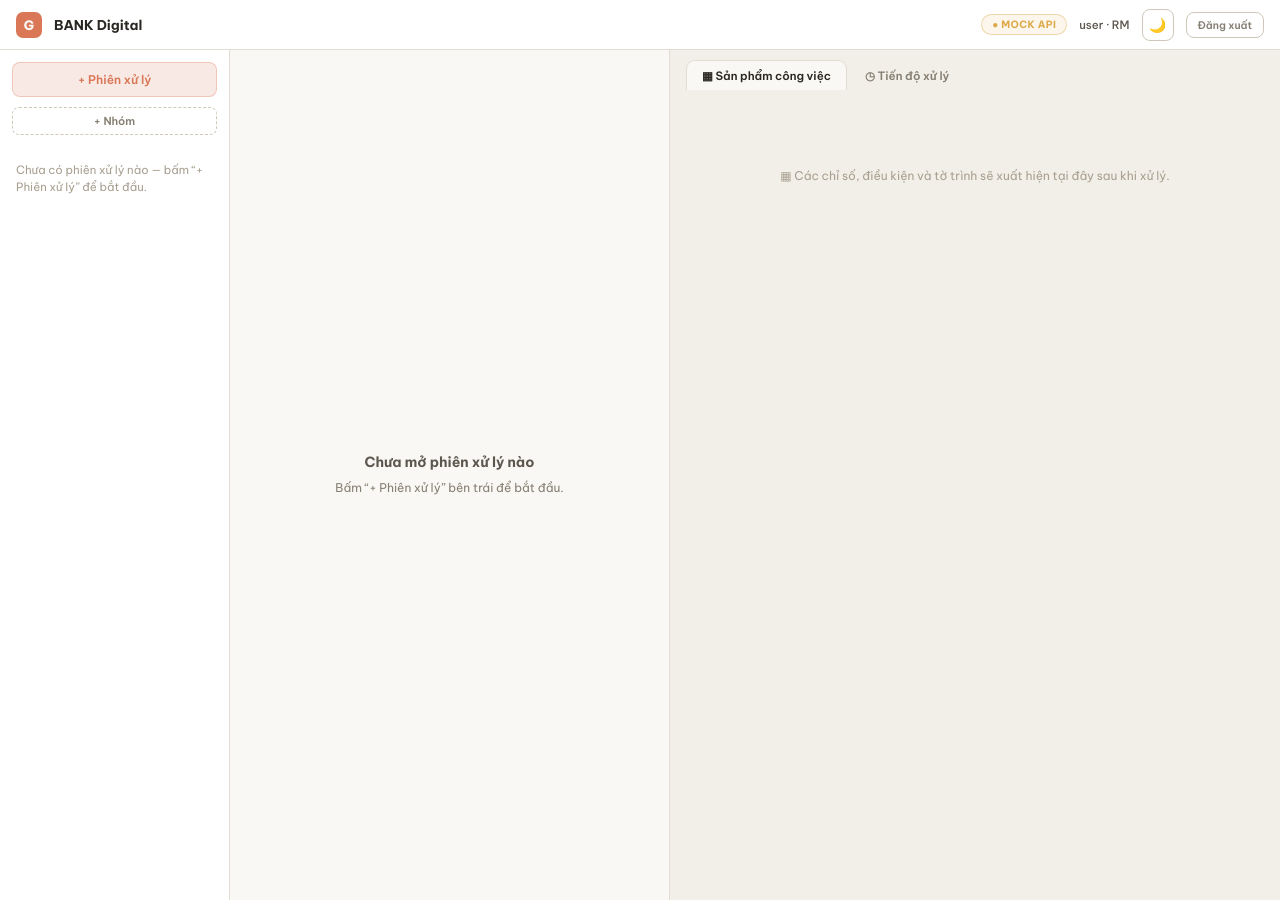
Workspace chat — vòng lõi S1 (mock API) › bước nghiệp vụ fail → cảnh báo an toàn + tiến độ lỗi, không lộ raw task output
Click the button "+ Phiên xử lý" at (114, 80), box [12,62,217,97]
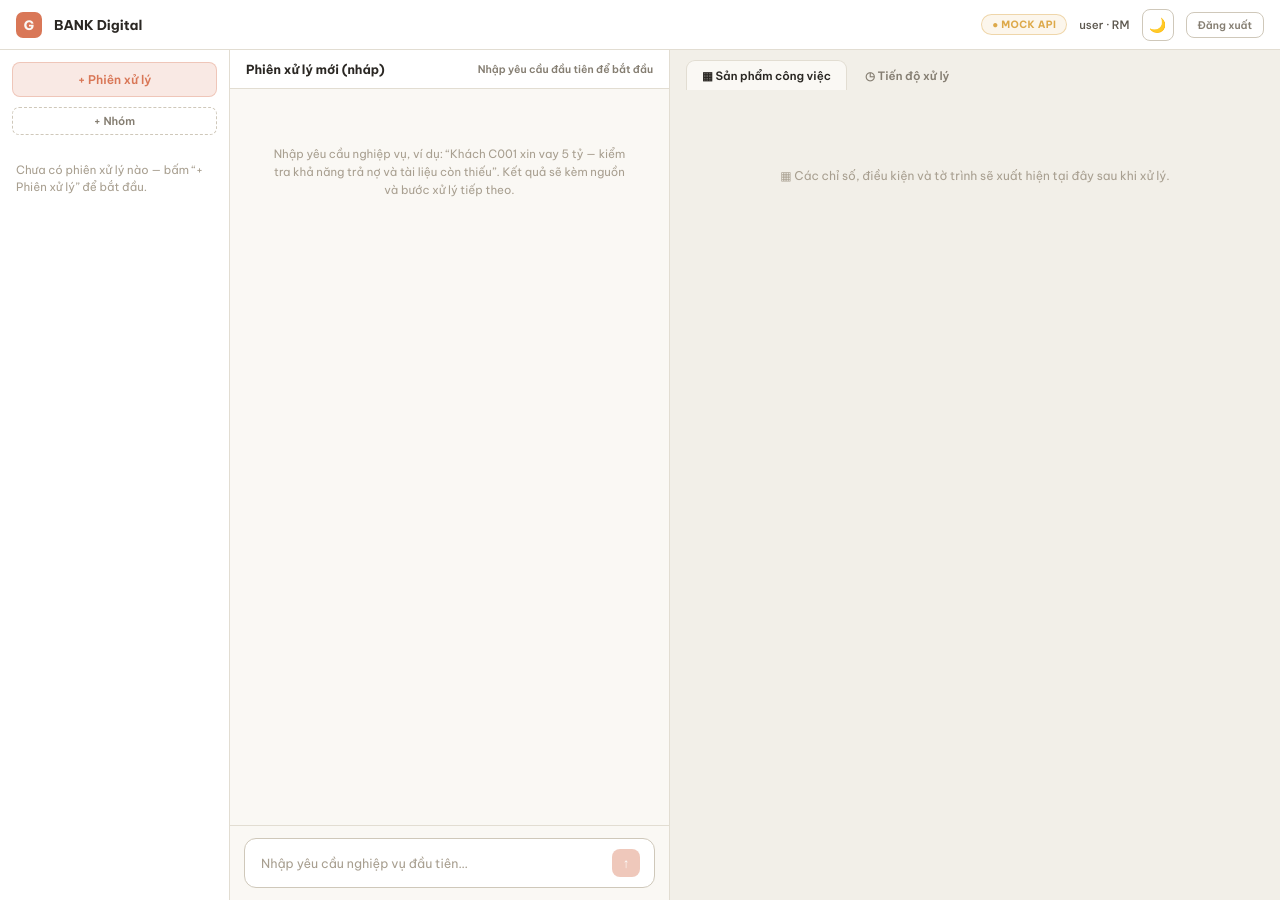
Type "C001 vay — credit fail đi" into the field named "Ô nhập câu hỏi" at (430, 863), box [259,854,602,872]
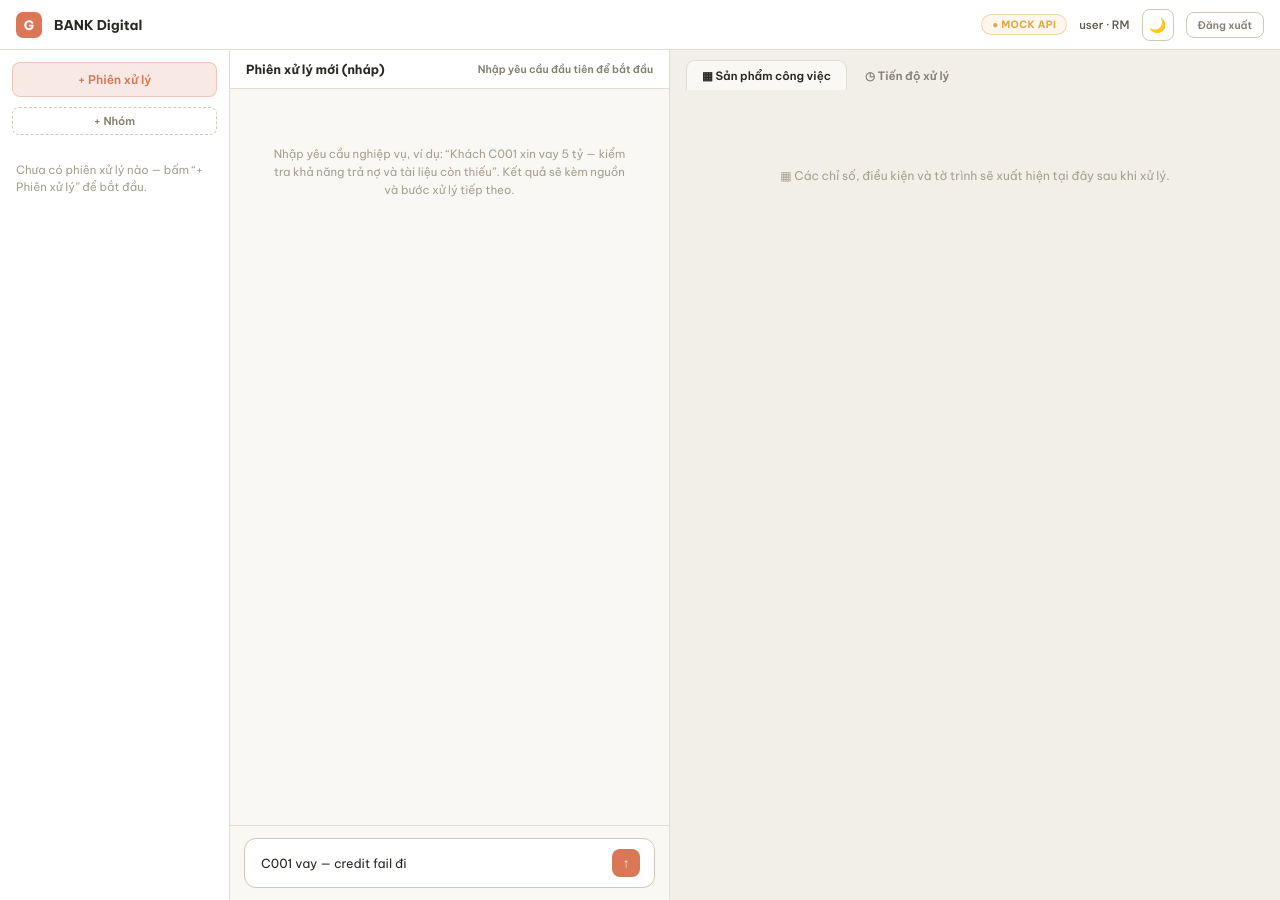
Press Enter in the field named "Ô nhập câu hỏi", box [259,854,602,872]
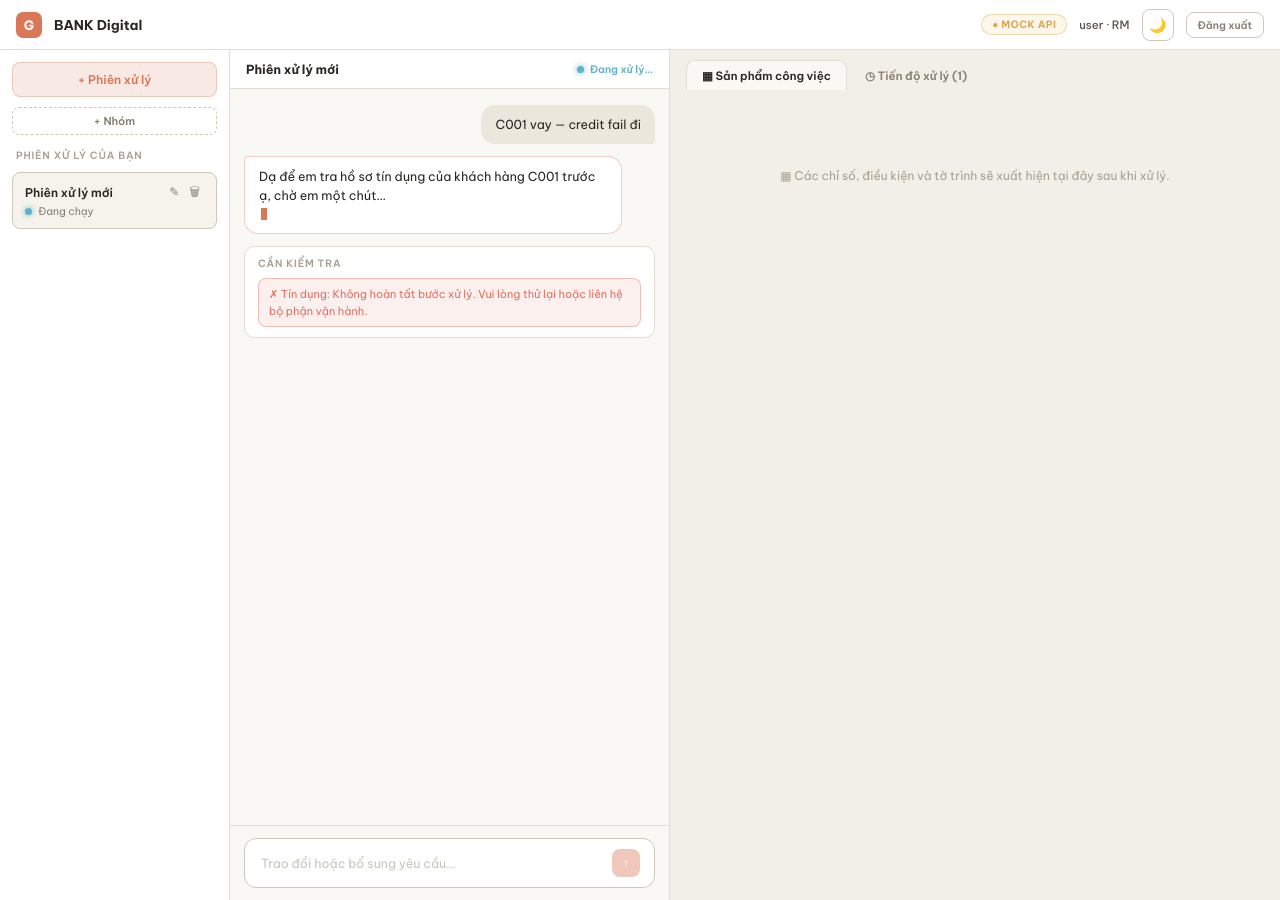
Result: the text "Không hoàn tất bước xử lý" is shown at [269,287,623,318]
Click the tab "◷ Tiến độ xử lý (1)" at (916, 75), box [849,60,983,90]
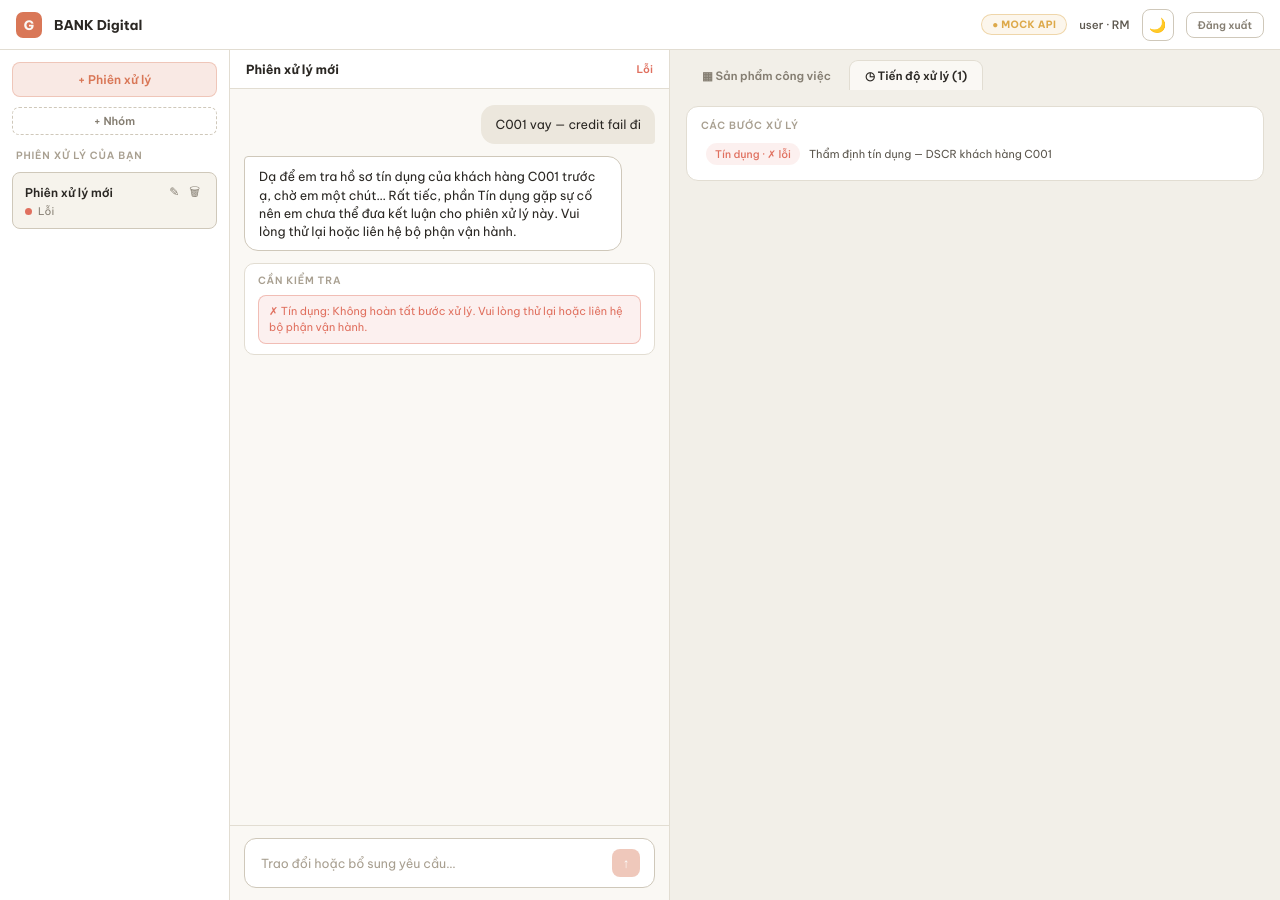
Result: the text "Tín dụng · ✗ lỗi" is shown at [706,143,800,165]
Result: the text "Lỗi" is shown at [25,204,54,218]
